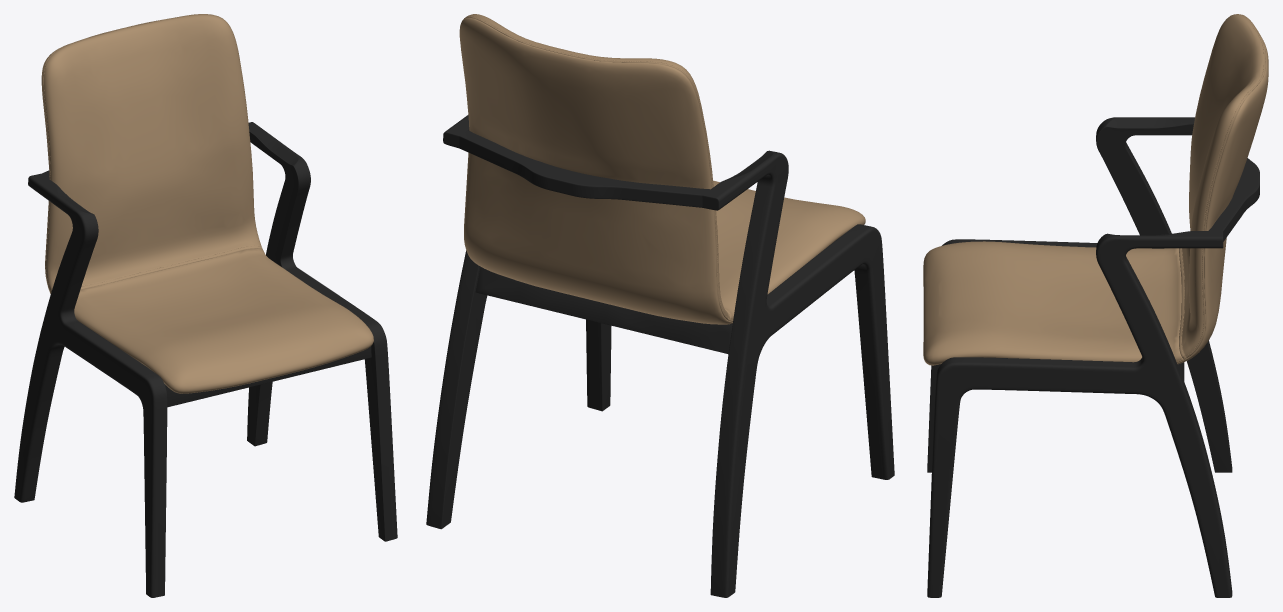
File: cadeira-atenas.glb
3 renders of one model, left to right at view 1: azimuth 30°, elevation 25°; view 2: azimuth 150°, elevation 25°; view 3: azimuth 270°, elevation 25°, orthographic. The views are drawn at different scales.
Bounding box in the file's own units: 0.547 × 0.9134 × 0.6002.
